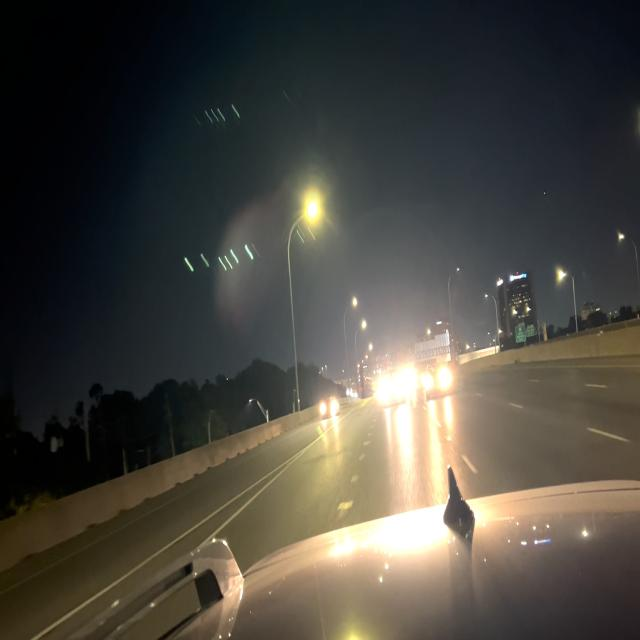back-of-sign: (415, 331, 451, 362)
